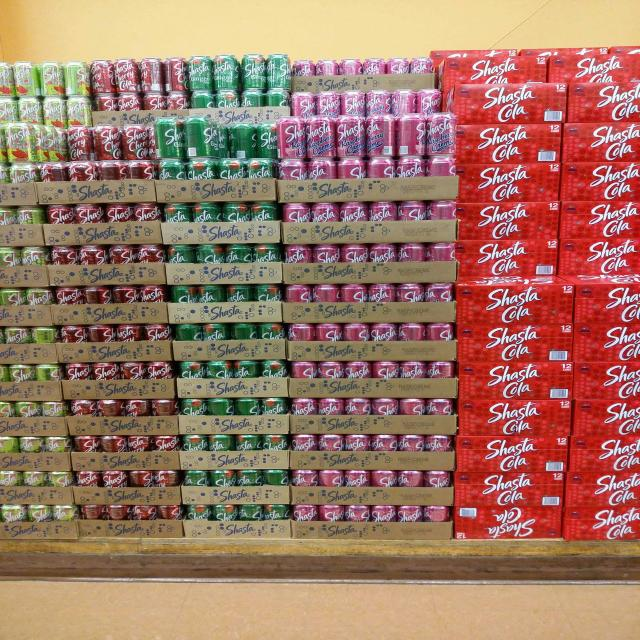unorganised: (93, 123, 121, 165), (64, 128, 92, 161), (125, 123, 149, 161)
